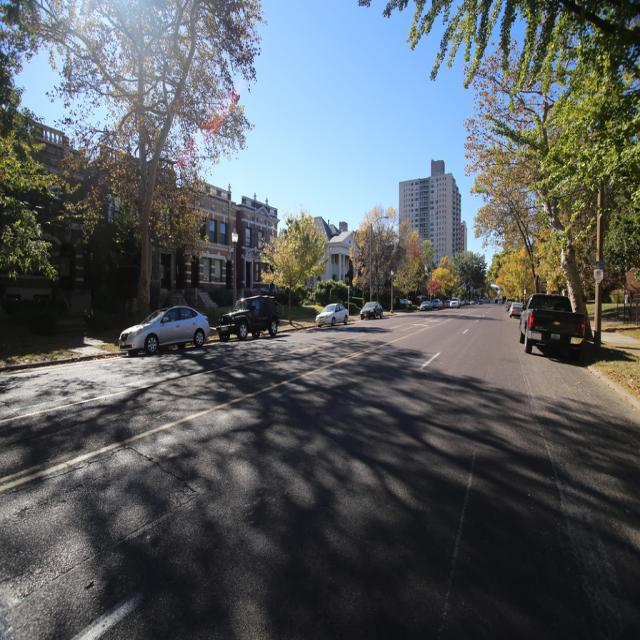car: (115, 297, 212, 355), (216, 288, 280, 338), (311, 297, 348, 333), (357, 294, 382, 321), (508, 299, 525, 318)
